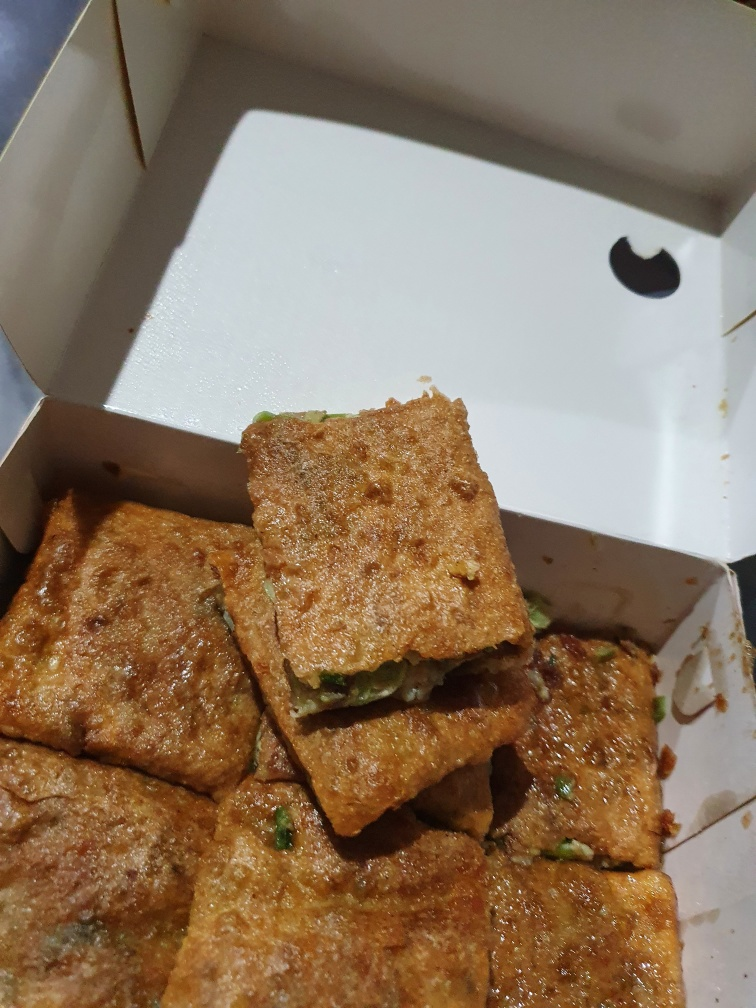martabak telor: (211, 523, 536, 790), (25, 446, 256, 801), (253, 400, 521, 669), (203, 782, 488, 1008), (500, 642, 678, 849)
